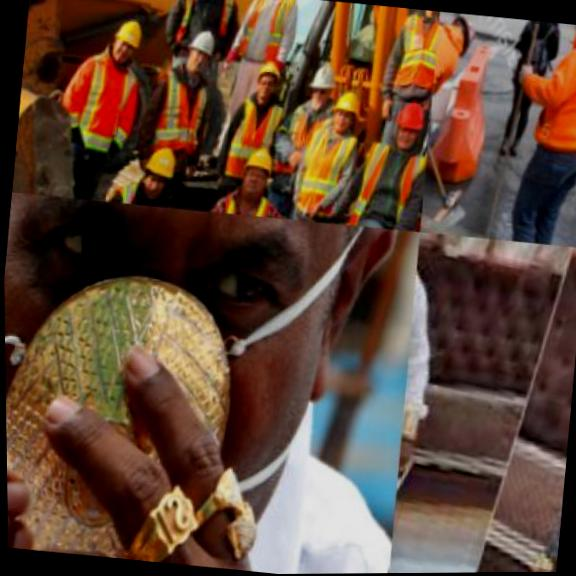safety_vest: (63, 50, 149, 154), (347, 133, 429, 231), (220, 83, 294, 186), (293, 117, 365, 221), (147, 57, 220, 153), (383, 6, 440, 97), (236, 0, 302, 63), (280, 92, 333, 159), (172, 0, 240, 49), (104, 167, 185, 207), (207, 180, 279, 216)
